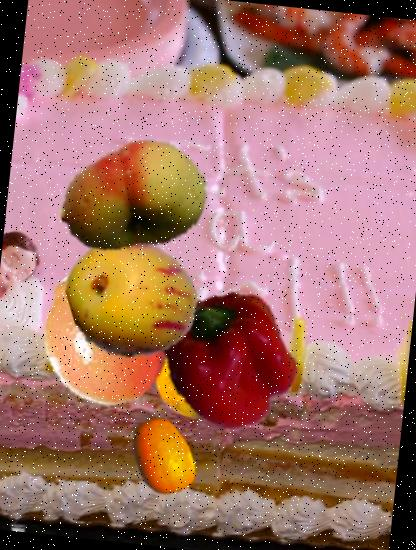Cantaloupe: (146, 326, 247, 427)
Kumquats: (119, 414, 206, 500)
Peach: (51, 116, 215, 280)
Pepino: (63, 229, 201, 367)
Pepper: (150, 282, 306, 438)
Tangelo: (26, 260, 180, 414)
